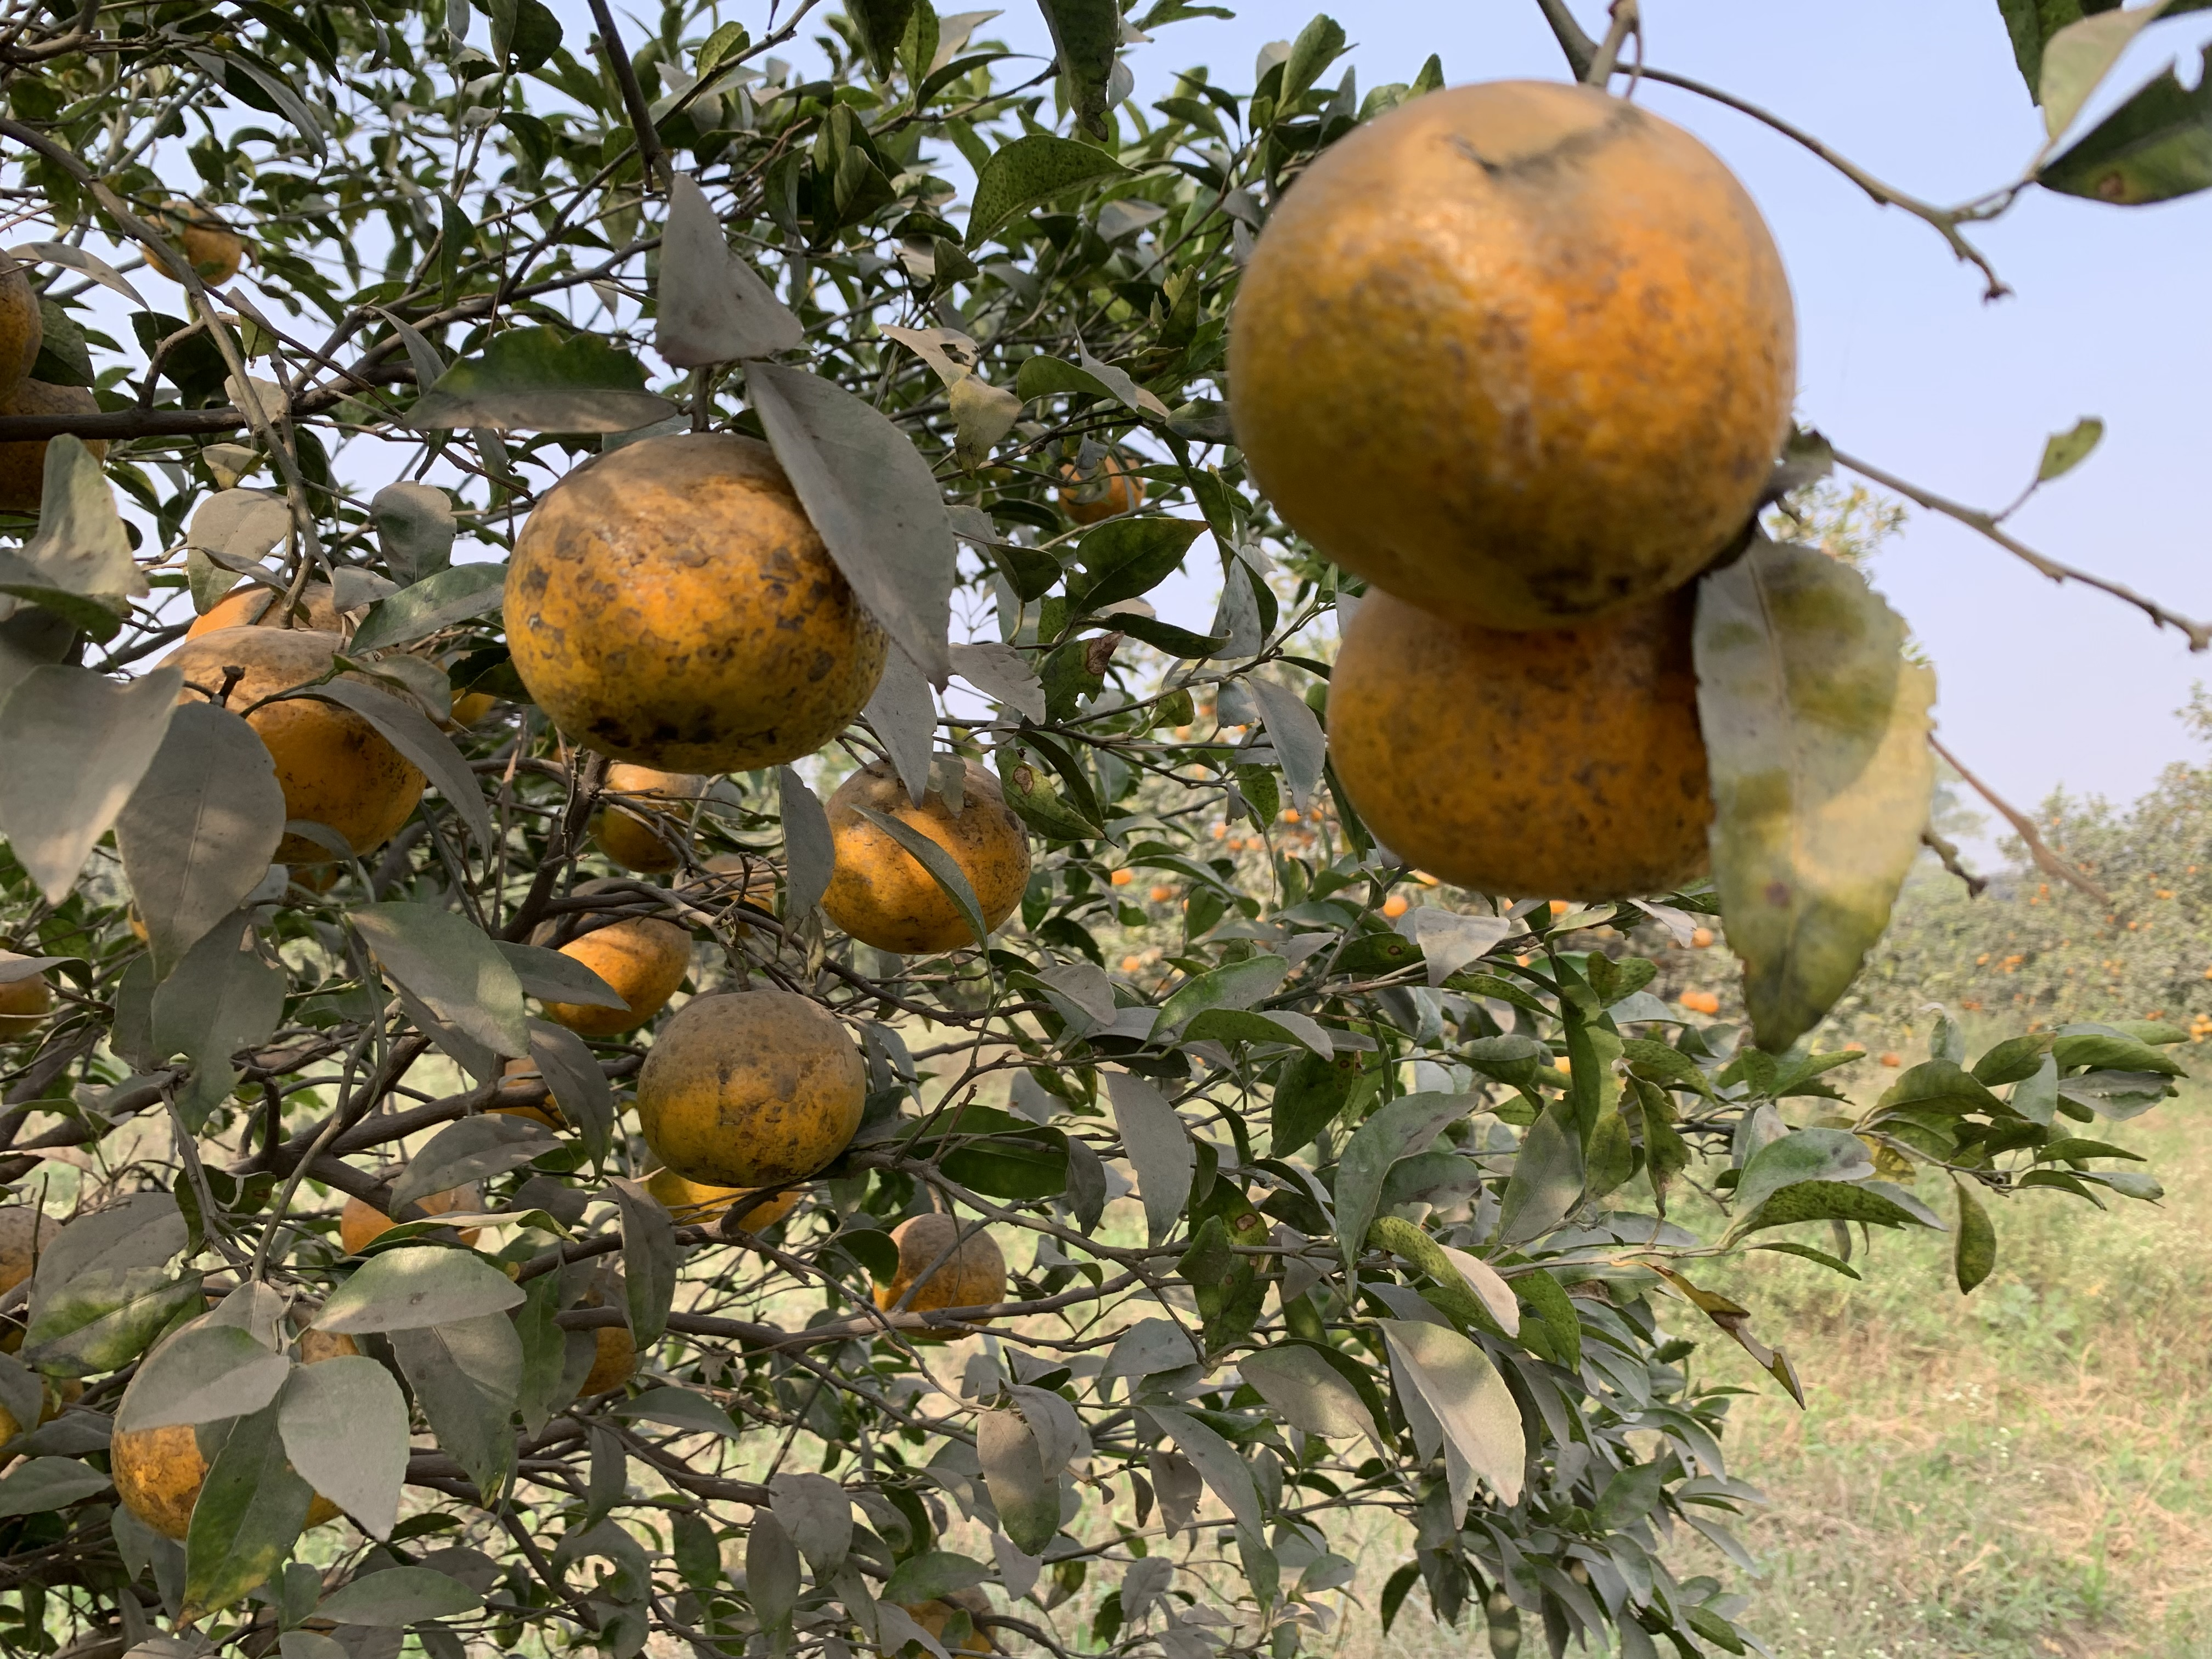orange: (1224, 82, 1794, 619), (503, 434, 887, 769), (1331, 577, 1710, 889), (158, 627, 416, 852), (113, 1321, 341, 1537), (632, 992, 855, 1173), (819, 751, 1026, 938), (542, 920, 688, 1032), (878, 1213, 1001, 1338), (597, 758, 723, 857), (336, 1169, 481, 1255), (646, 1155, 791, 1230), (174, 582, 352, 634), (577, 1269, 641, 1385), (894, 1582, 991, 1659), (1059, 444, 1143, 523), (498, 1056, 580, 1124), (3, 1204, 57, 1297), (2, 953, 49, 1047)
